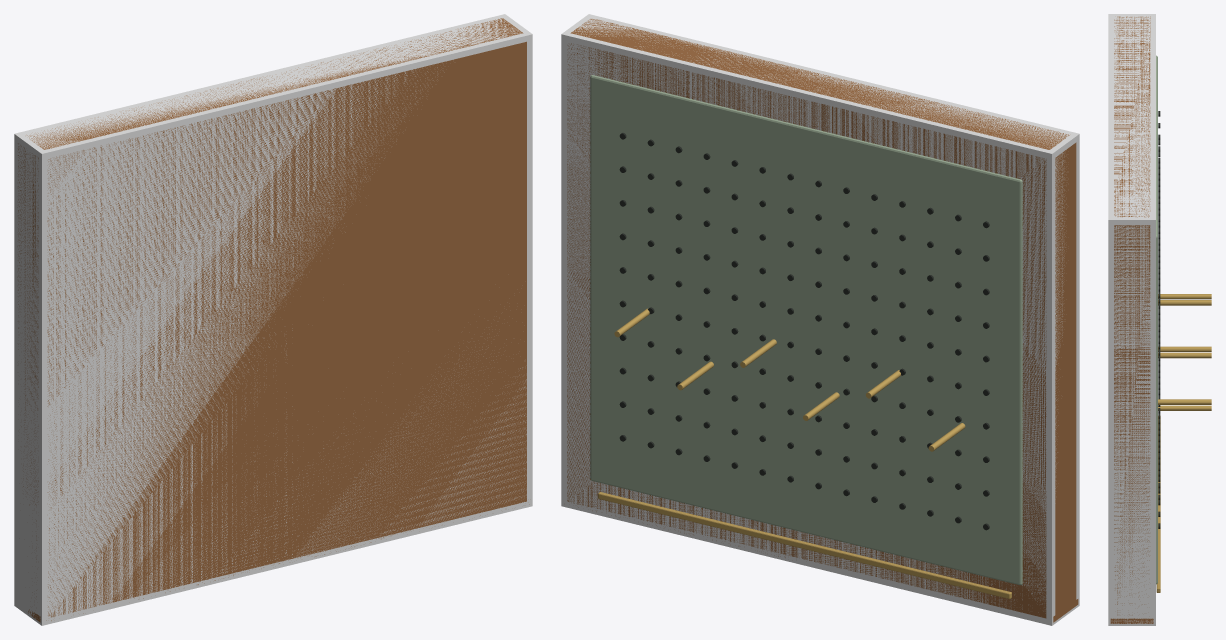
File: executive.glb
The picture shows the model from 3 angles, left to right: view 1: azimuth 30°, elevation 25°; view 2: azimuth 150°, elevation 25°; view 3: azimuth 270°, elevation 25°; orthographic projection. The views are drawn at different scales.
Visible parts, largest first — view 1: Pegboard_Frame.004, COL_PEGBOARD_WALLS_EXECUTIVE; view 2: Pegboard_Field.004, COL_PEGBOARD_WALLS_EXECUTIVE, Pegboard_Frame.004, Pegboard_BrassToeKick.001; view 3: COL_PEGBOARD_WALLS_EXECUTIVE, Pegboard_Frame.004, Pegboard_Field.004, Pegboard_BrassToeKick.001, PegHook_3.003, PegHook_6, PegHook_1.004, PegHook_5.001, PegHook_2.004, PegHook_4.002, Pegboard_SteppedPlinth.
Part boxes in pixels (x1,y1,x2,y2): Pegboard_Frame.004: [17, 18, 526, 617]; COL_PEGBOARD_WALLS_EXECUTIVE: [14, 14, 532, 625]; Pegboard_Field.004: [590, 75, 1022, 585]; COL_PEGBOARD_WALLS_EXECUTIVE: [561, 14, 1079, 625]; Pegboard_Frame.004: [567, 19, 1076, 618]; Pegboard_BrassToeKick.001: [598, 492, 1011, 598]; COL_PEGBOARD_WALLS_EXECUTIVE: [1108, 14, 1155, 625]; Pegboard_Frame.004: [1114, 16, 1150, 618]; Pegboard_Field.004: [1156, 55, 1157, 584]; Pegboard_BrassToeKick.001: [1156, 416, 1160, 592]; PegHook_3.003: [1158, 352, 1211, 358]; PegHook_6: [1158, 399, 1211, 404]; PegHook_1.004: [1158, 300, 1211, 305]; PegHook_5.001: [1158, 405, 1211, 410]; PegHook_2.004: [1158, 294, 1211, 299]; PegHook_4.002: [1158, 346, 1211, 351]; Pegboard_SteppedPlinth: [1110, 618, 1153, 623].
Bounding box in the file's own units: 2.13 × 1.96 × 0.4514.
